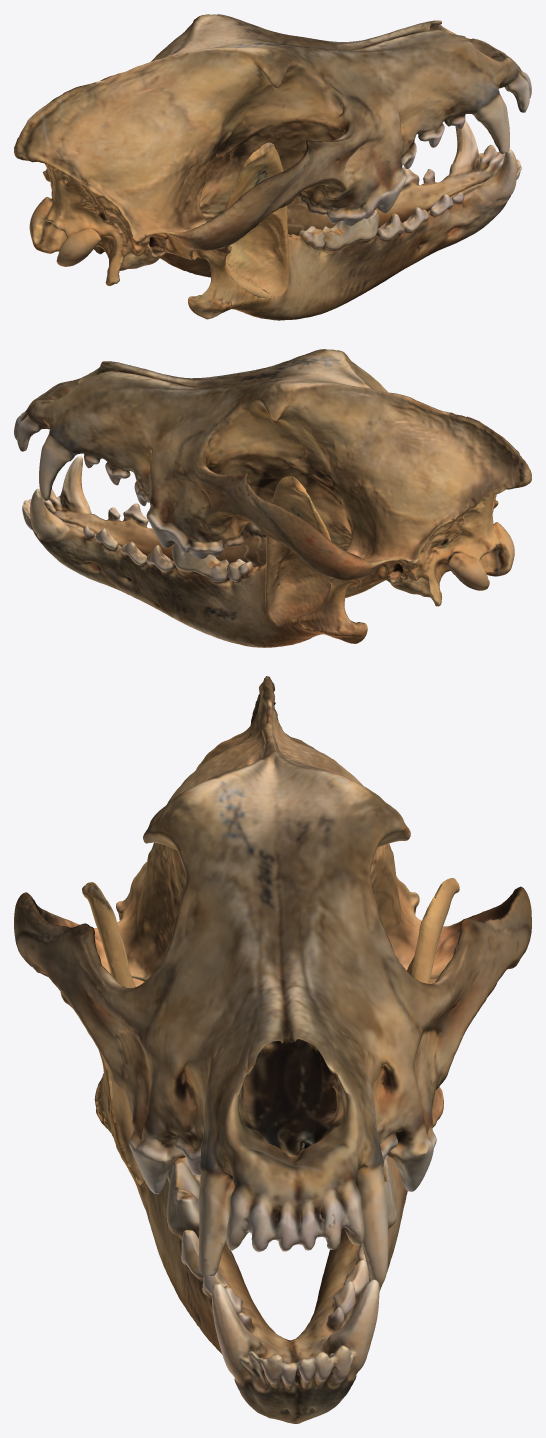
File: canis3D.glb
3 renders of one model, top to bottom at view 1: azimuth 30°, elevation 25°; view 2: azimuth 150°, elevation 25°; view 3: azimuth 270°, elevation 25°, orthographic. The views are drawn at different scales.
Parts seen in each view (by area): view 1: Object_5, Object_7, Object_3, Object_6, Object_2; view 2: Object_6, Object_5, Object_7, Object_2, Object_3; view 3: Object_5, Object_7, Object_3, Object_6, Object_2.
Boxes of the visible parts, x1,y1,x2,y2 form: Object_5: (29, 14, 531, 282); Object_7: (14, 15, 508, 267); Object_3: (188, 142, 521, 320); Object_6: (26, 19, 367, 286); Object_2: (94, 120, 521, 301); Object_6: (191, 380, 519, 606); Object_5: (14, 349, 514, 588); Object_7: (33, 350, 531, 590); Object_2: (22, 476, 384, 647); Object_3: (39, 456, 384, 619); Object_5: (14, 758, 531, 1286); Object_7: (14, 677, 531, 1269); Object_3: (60, 882, 369, 1423); Object_6: (15, 676, 531, 1167); Object_2: (196, 878, 459, 1416).
Bounding box in the file's own units: 7.2 × 3.72 × 3.72.
Materials: 2 (2 with a texture image).
